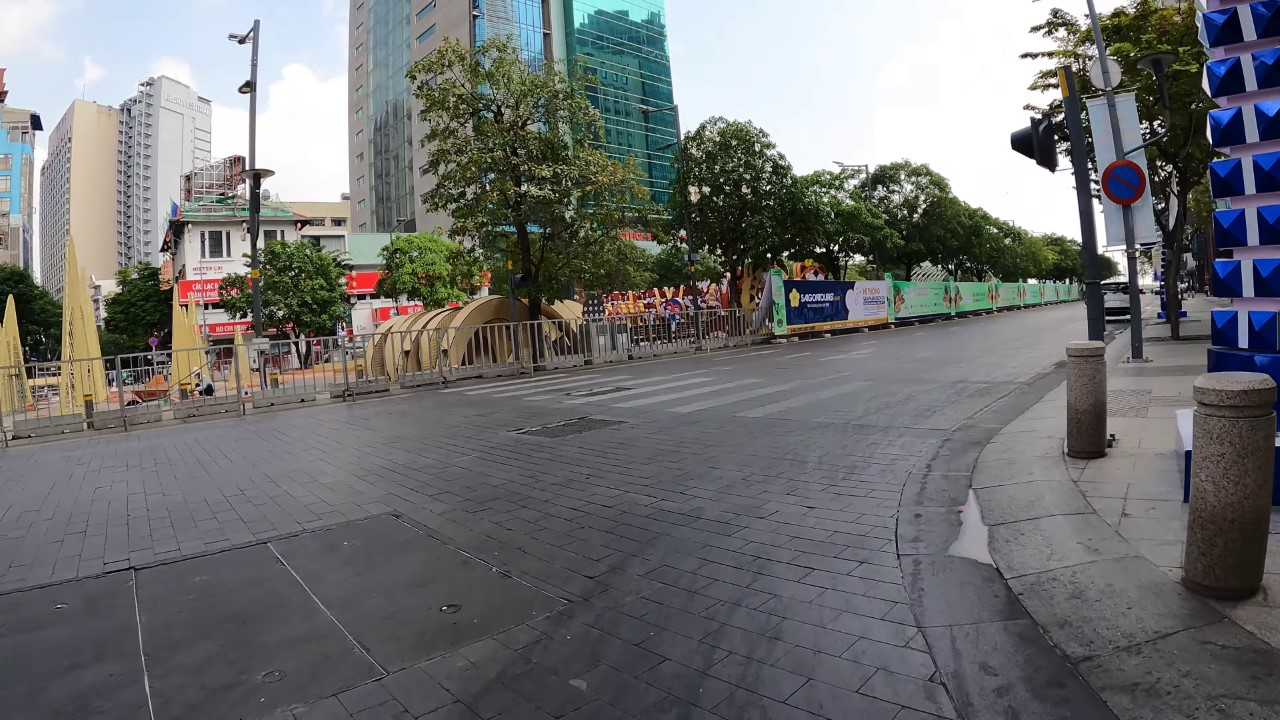cam_do_xe: (1099, 154, 1146, 211)
